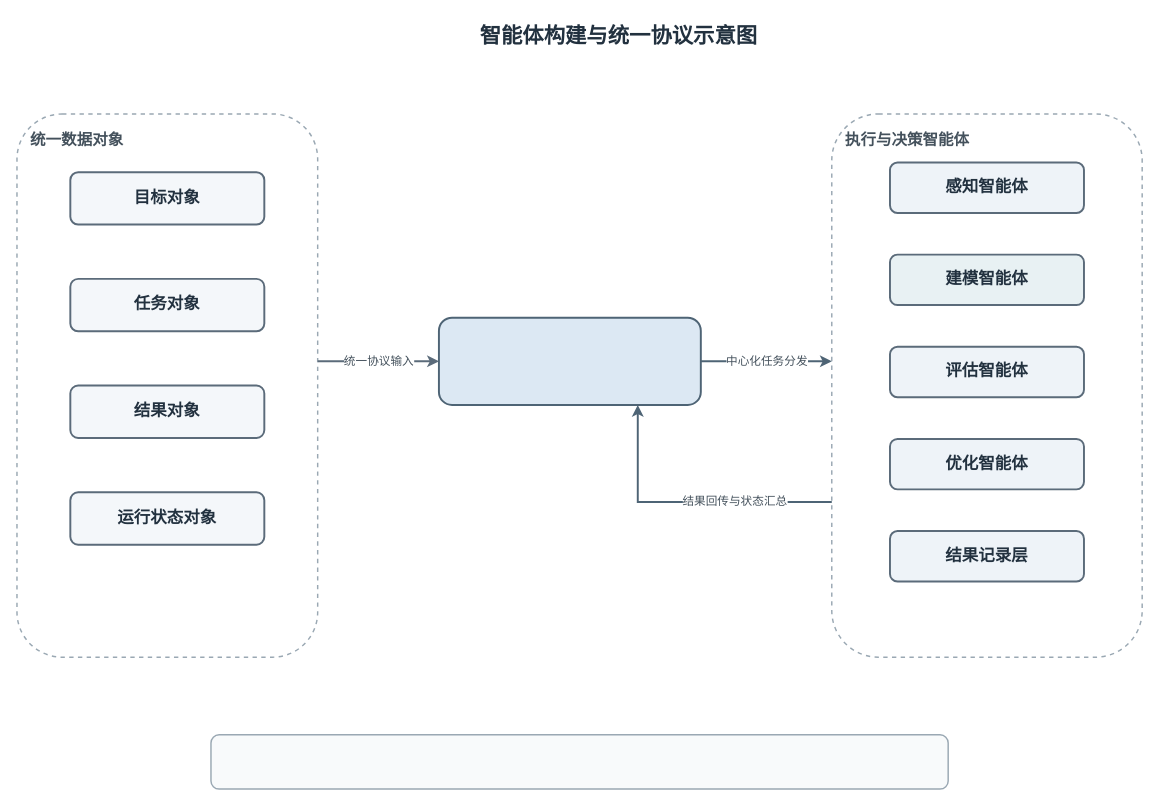
This 1160x806 diagram has some shape labels left out. Here are the shapes that lost their labels. From the top down, the centre of each, then its label:
At [569,360]: "协调智能体".
At [579,761]: "统一协议将用户目标、阶段任务、执行结果与运行状态组织为可持续流转的内部对象".
